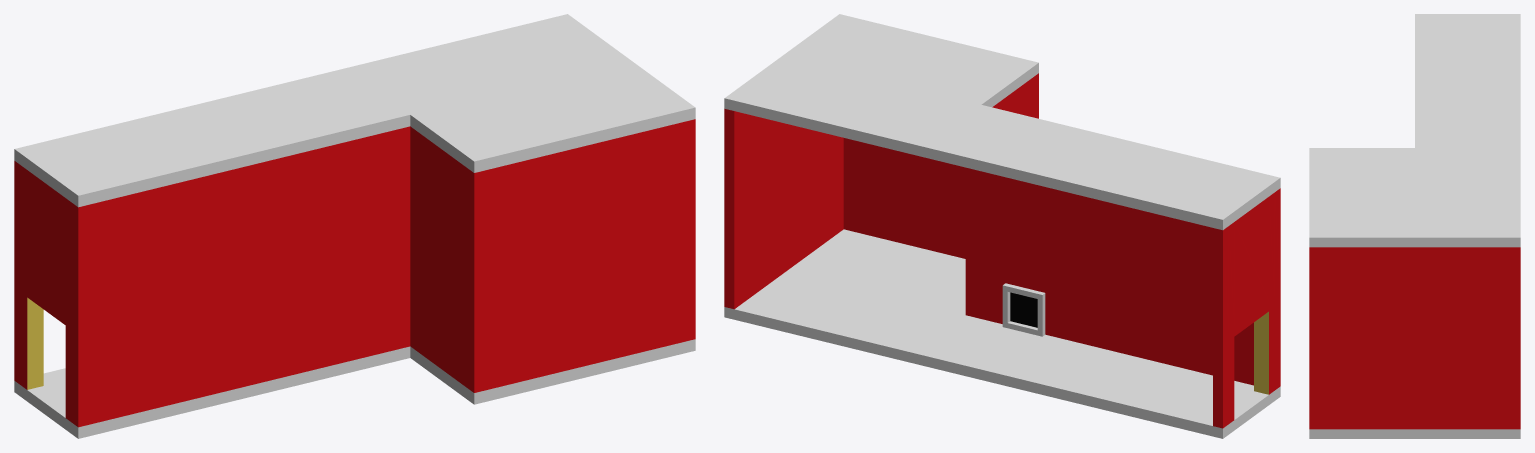
Rendered from Stairs_16_01.fbx.
3 renders of one model, left to right at view 1: azimuth 30°, elevation 25°; view 2: azimuth 150°, elevation 25°; view 3: azimuth 270°, elevation 25°, orthographic. The views are drawn at different scales.
Parts seen in each view (by area): view 1: Stairs_17_01; view 2: Stairs_17_01; view 3: Stairs_17_01.
Part boxes in pixels (x1,y1,x2,y2): Stairs_17_01: (14, 14, 695, 438); Stairs_17_01: (724, 14, 1280, 438); Stairs_17_01: (1309, 14, 1520, 438).
Bounding box in the file's own units: 500 × 210 × 200.
